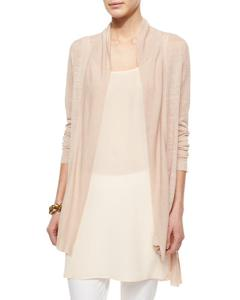S_cardigan sweater: (57, 29, 197, 248)
